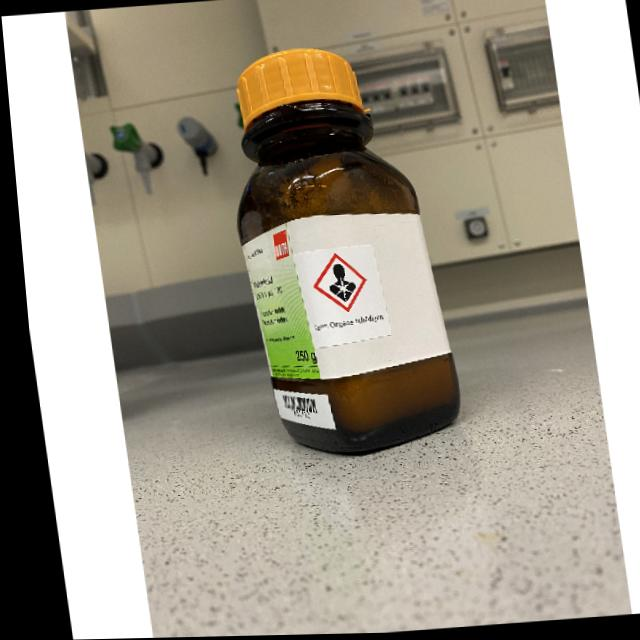serious health hazard: (302, 252, 365, 317)
